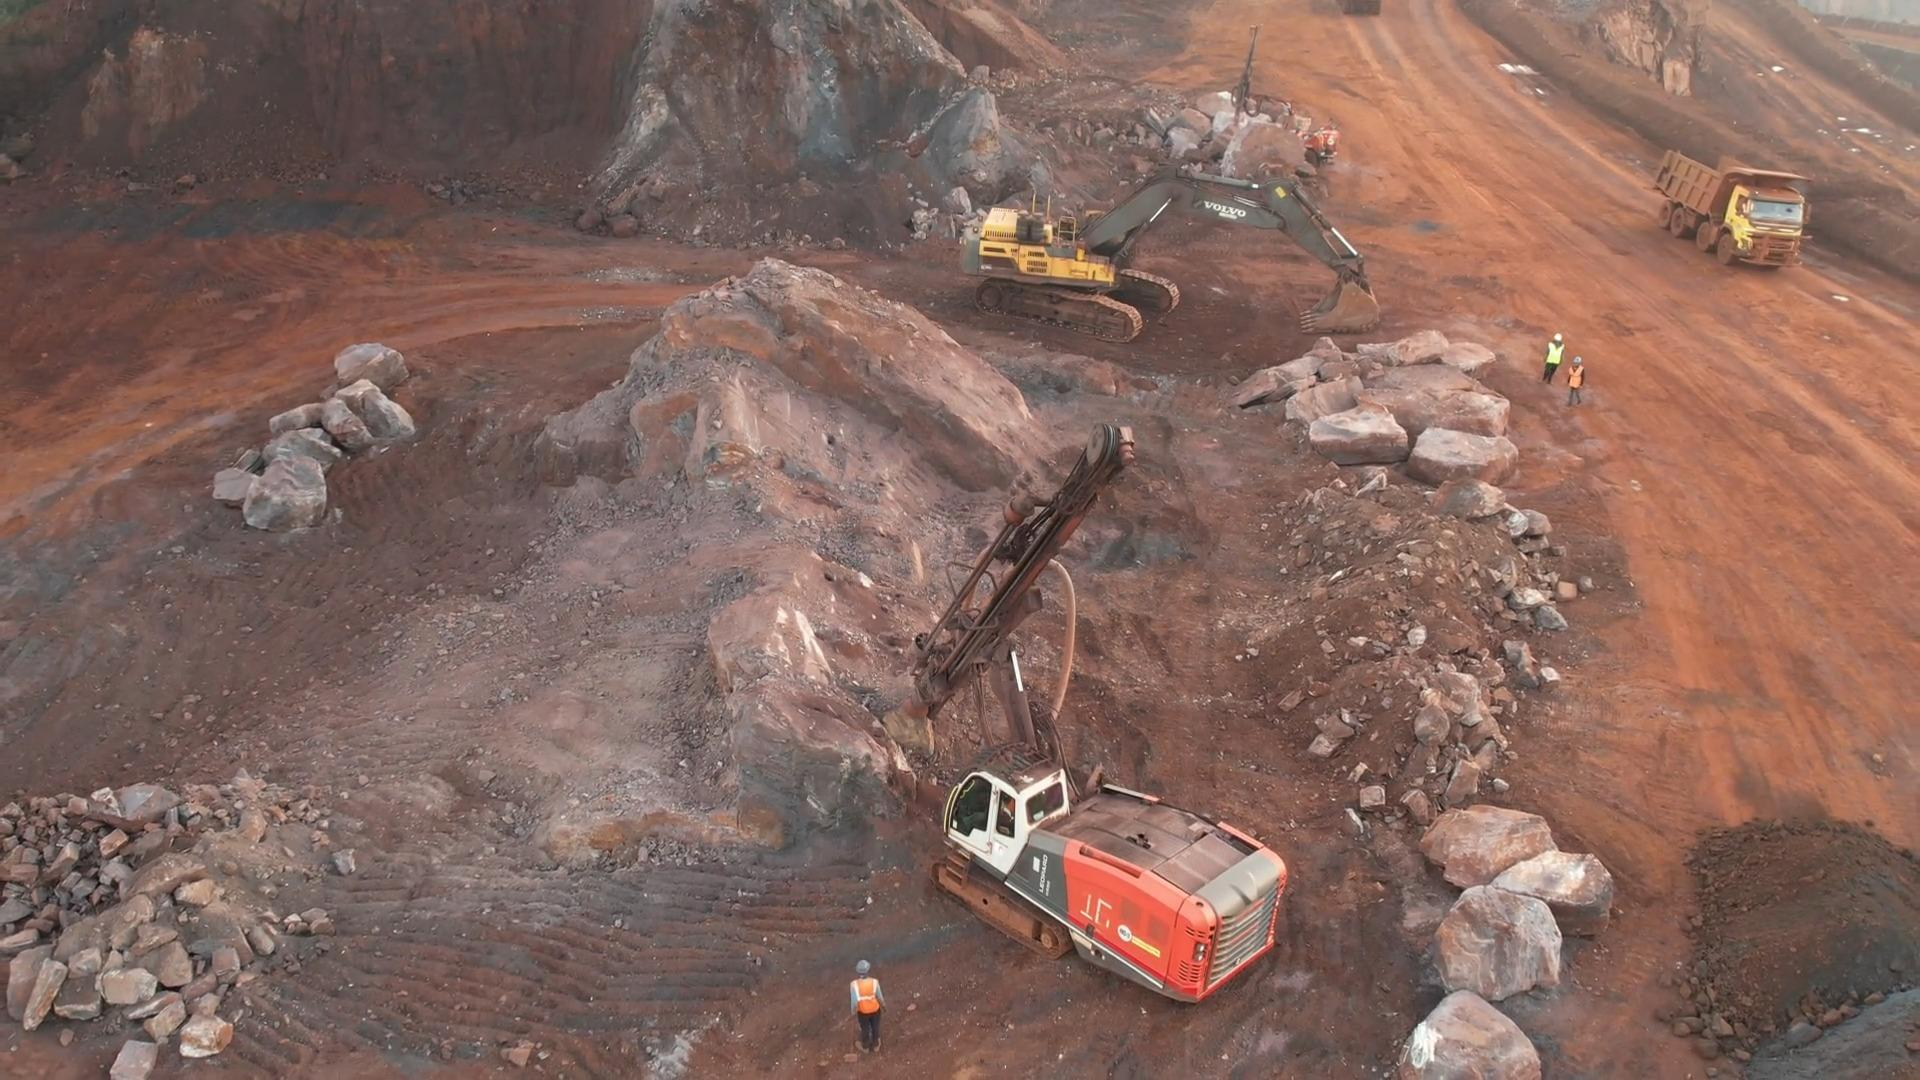excavator: (981, 169, 1360, 324)
